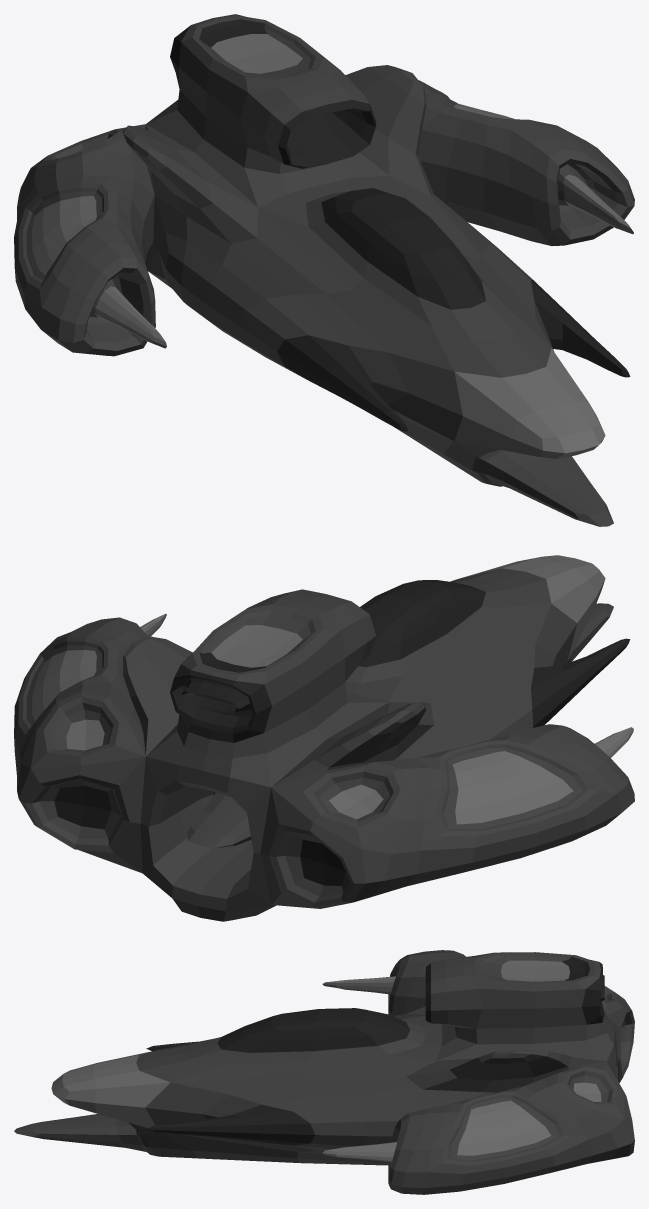
The model's file is shipL3.gltf.
The picture shows the model from 3 angles, top to bottom: view 1: azimuth 30°, elevation 25°; view 2: azimuth 150°, elevation 25°; view 3: azimuth 270°, elevation 25°; orthographic projection. The views are drawn at different scales.
Visible parts, largest first — view 1: Cube; view 2: Cube; view 3: Cube.
Part boxes in pixels (left/top/right/bottom): Cube: left=14, top=14, right=634, bottom=526; Cube: left=14, top=555, right=634, bottom=921; Cube: left=14, top=950, right=634, bottom=1194.
Bounding box in the file's own units: 0.4595 × 0.1985 × 0.5745.
2 materials, 2 textured.
